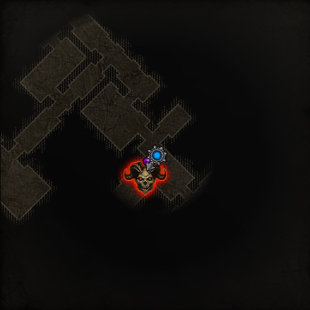Guardian: (123, 159, 168, 197)
